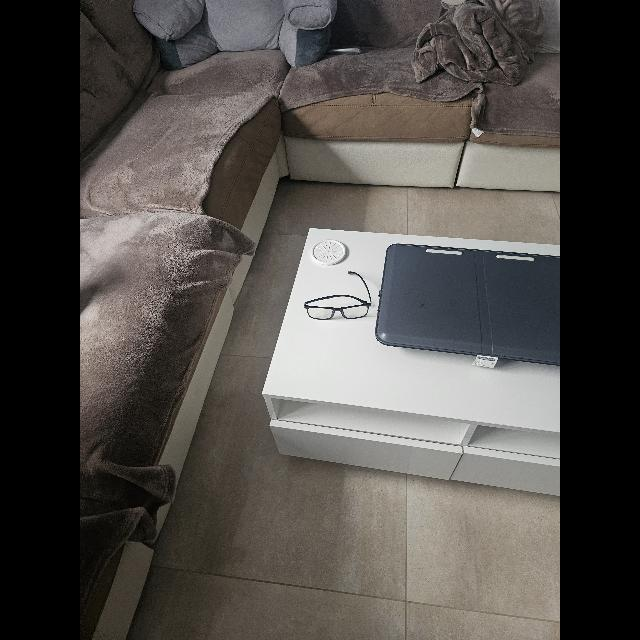glasses: (304, 270, 372, 320)
